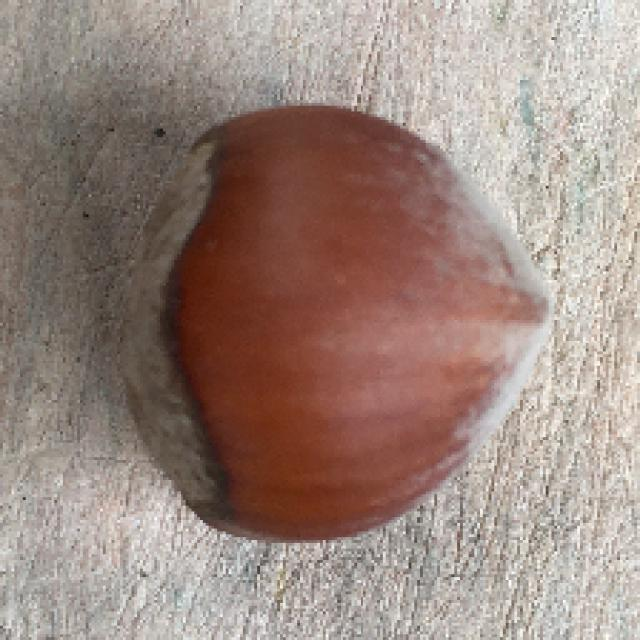qualityHazelnut: (101, 106, 544, 541)
